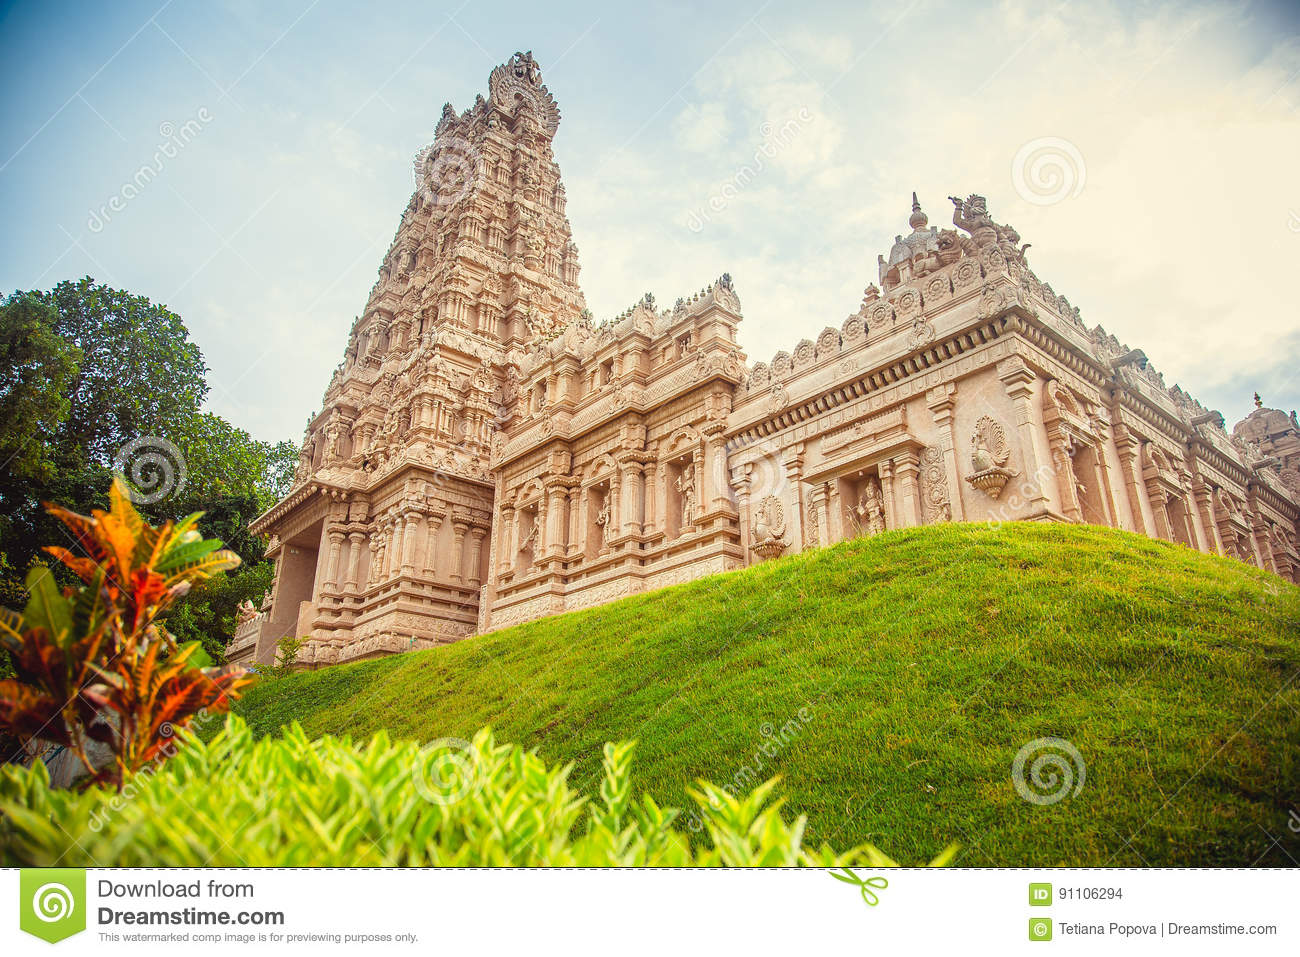Hindu Temple: (267, 45, 1300, 578)
